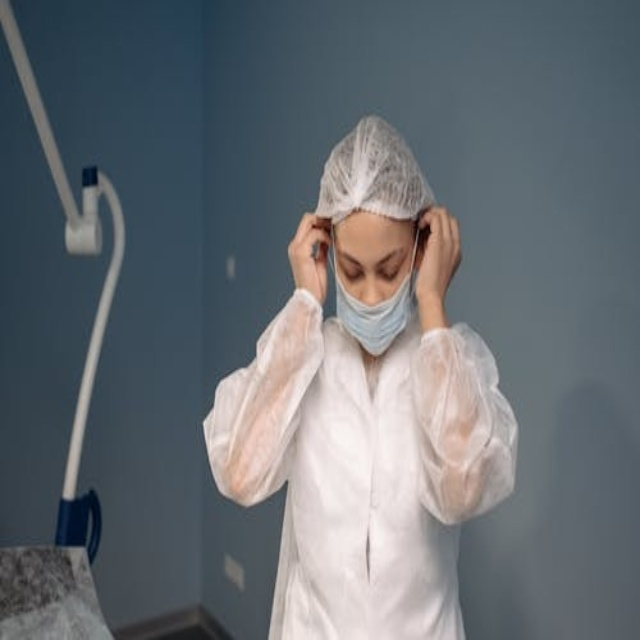Mascara: (333, 231, 418, 358)
Sin_gafas: (340, 241, 408, 293)
Sin_guantes: (408, 190, 471, 310), (280, 199, 338, 322)
